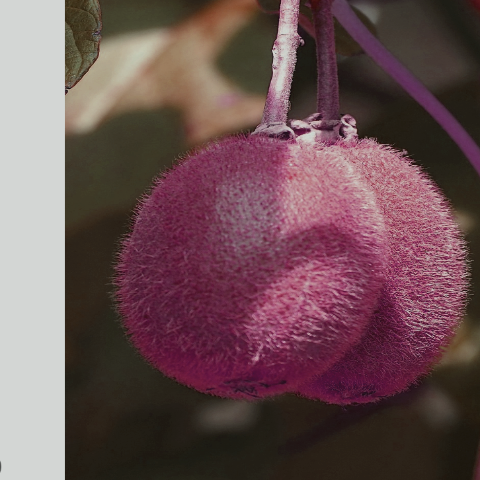kiwi: (112, 115, 387, 421)
